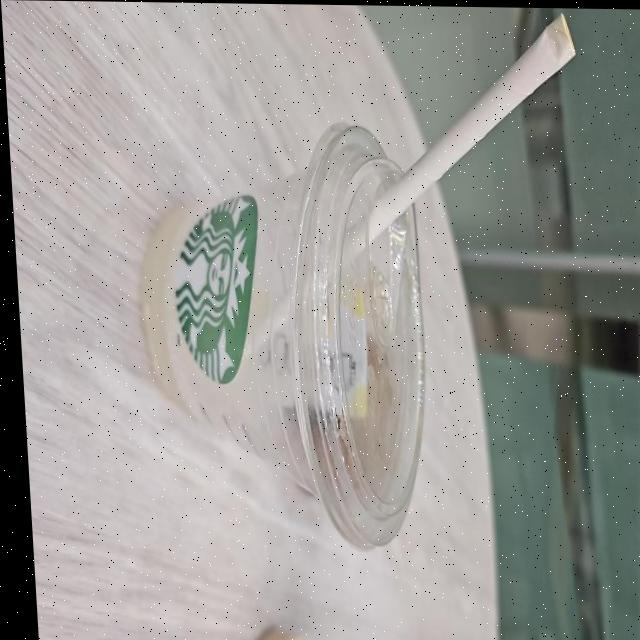cup: (122, 100, 442, 598)
